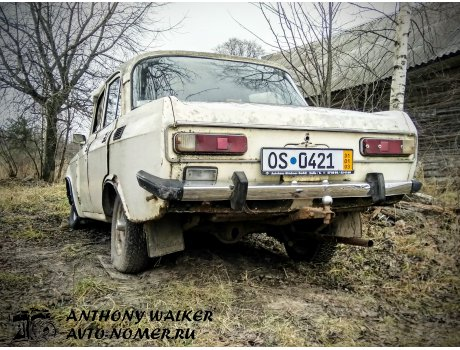License Plates: (265, 147, 340, 165)
